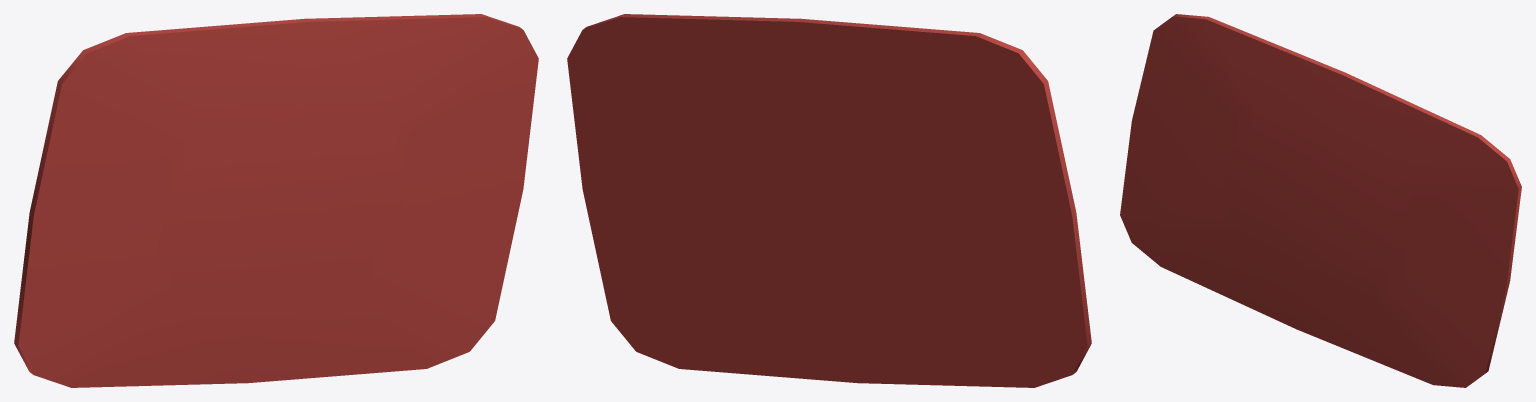
3 views of the same model, side by side, from view 1: azimuth 30°, elevation 25°; view 2: azimuth 150°, elevation 25°; view 3: azimuth 330°, elevation 25° (orthographic). The views are drawn at different scales.
Visible parts, largest first — view 1: mx_lod2; view 2: mx_lod2; view 3: mx_lod2.
Boxes of the visible parts, x1,y1,x2,y2 form: mx_lod2: [14, 14, 538, 387]; mx_lod2: [567, 14, 1091, 387]; mx_lod2: [1120, 14, 1521, 387].
Size of the model in its own units: 0.3557 by 0.2646 by 0.0095.
